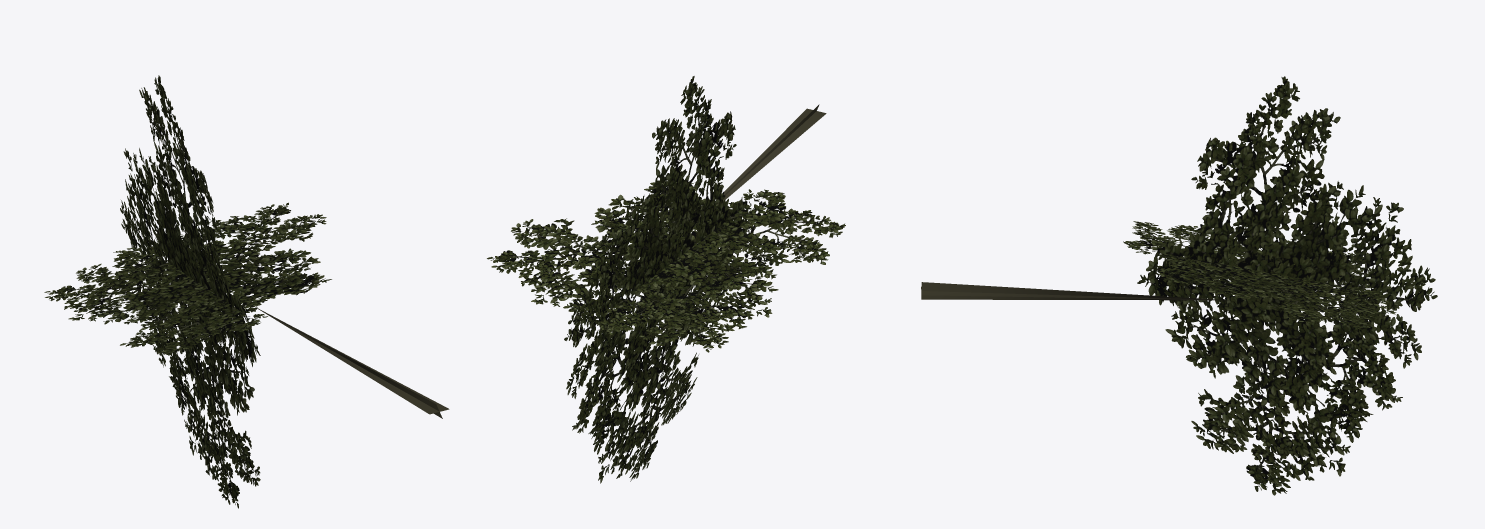
File: MEP_Tree_02_f_LOD_02.fbx
3 renders of one model, left to right at view 1: azimuth 30°, elevation 25°; view 2: azimuth 150°, elevation 25°; view 3: azimuth 270°, elevation 25°, orthographic. The views are drawn at different scales.
Visible parts, largest first — view 1: MEP_Leafs_02_f_LOD_02; view 2: MEP_Leafs_02_f_LOD_02; view 3: MEP_Leafs_02_f_LOD_02.
Part boxes in pixels (bbox=[...]): MEP_Leafs_02_f_LOD_02: bbox=[44, 75, 449, 508]; MEP_Leafs_02_f_LOD_02: bbox=[487, 76, 845, 483]; MEP_Leafs_02_f_LOD_02: bbox=[921, 76, 1437, 495].
Bounding box in the file's own units: 19.4 × 32.68 × 34.9.
